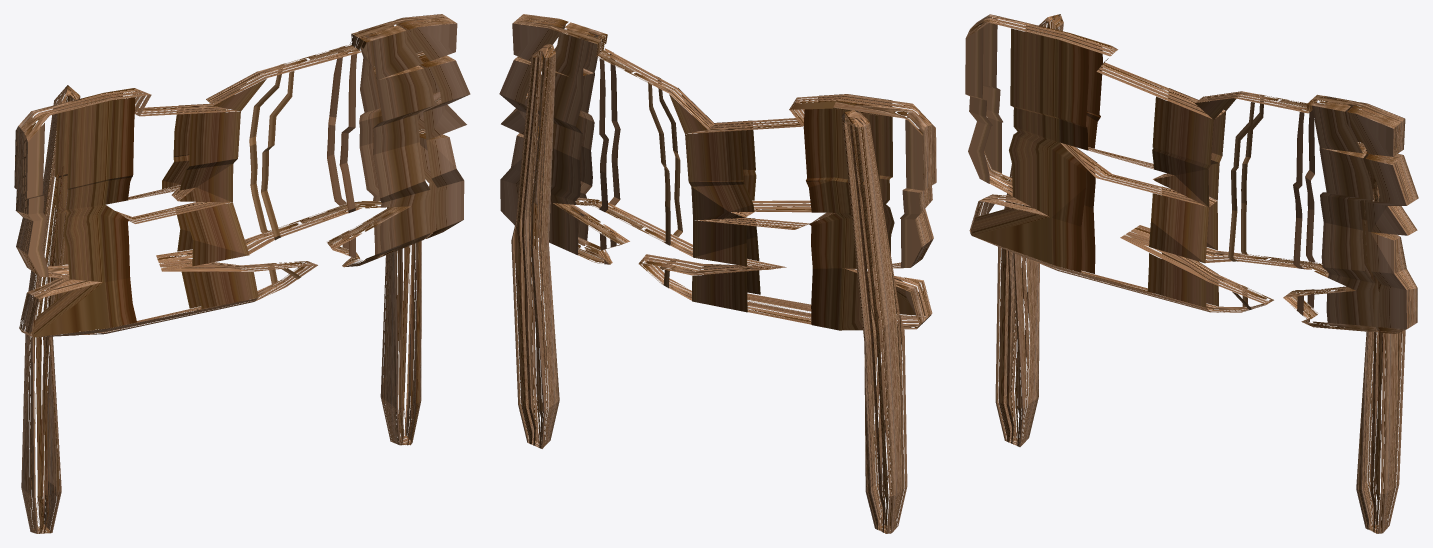
3 renders of one model, left to right at view 1: azimuth 30°, elevation 25°; view 2: azimuth 150°, elevation 25°; view 3: azimuth 330°, elevation 25°, orthographic. The views are drawn at different scales.
Visible parts, largest first — view 1: SM_Wooden_Table_01v2_LOD0; view 2: SM_Wooden_Table_01v2_LOD0; view 3: SM_Wooden_Table_01v2_LOD0.
Part boxes in pixels (x1=…): SM_Wooden_Table_01v2_LOD0: x1=14, y1=14, x2=470, y2=533; SM_Wooden_Table_01v2_LOD0: x1=499, y1=14, x2=936, y2=533; SM_Wooden_Table_01v2_LOD0: x1=965, y1=14, x2=1418, y2=533.
Bounding box in the file's own units: 1.94 × 1.8 × 0.2476.
